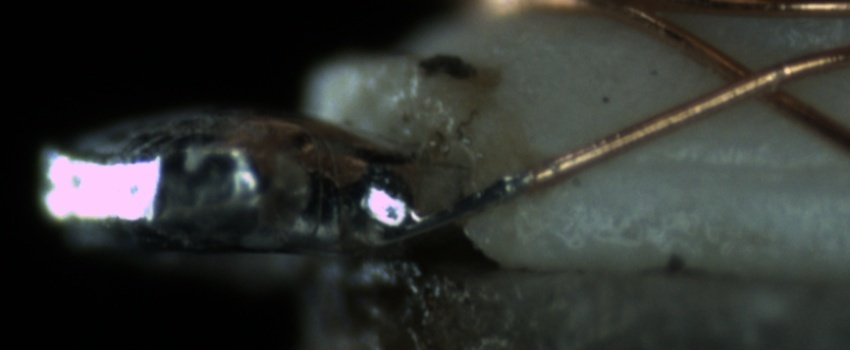CL: (704, 51, 808, 114)
DL: (574, 132, 844, 202)
TS: (381, 171, 542, 241)
